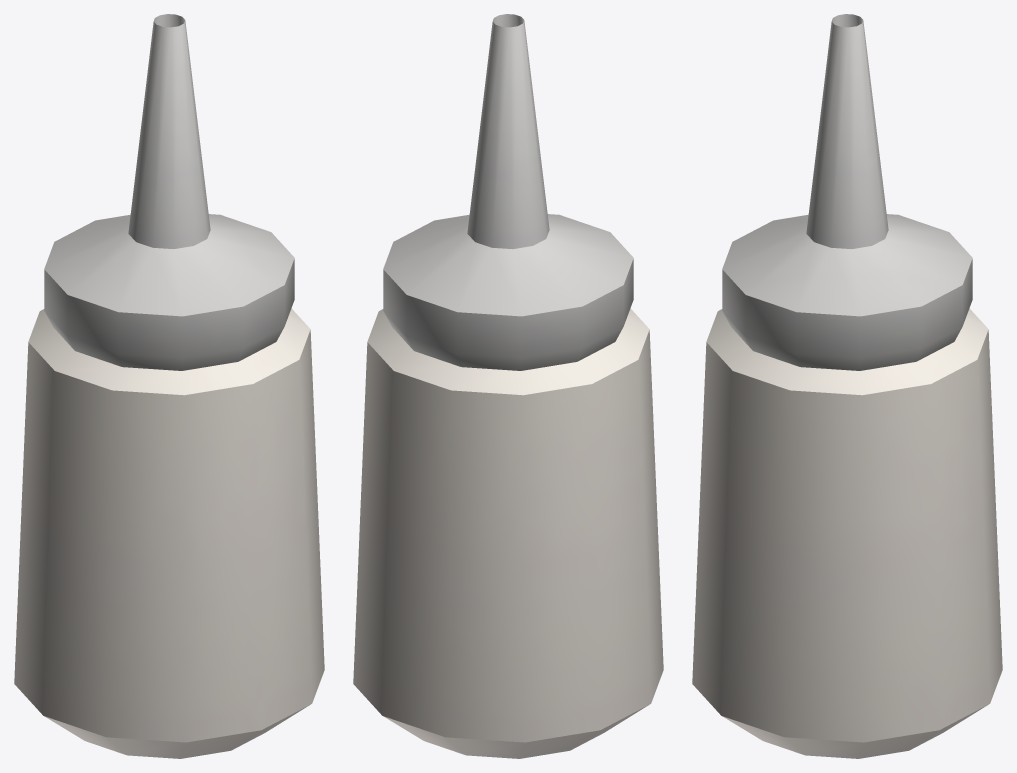
The model's file is GarlicSauce.fbx.
The picture shows the model from 3 angles, left to right: view 1: azimuth 30°, elevation 25°; view 2: azimuth 150°, elevation 25°; view 3: azimuth 270°, elevation 25°; orthographic projection.
Visible parts, largest first — view 1: GarlicSauce; view 2: GarlicSauce; view 3: GarlicSauce.
Boxes of the visible parts, <box> form: GarlicSauce: <box>14,14,324,758</box>; GarlicSauce: <box>353,14,663,758</box>; GarlicSauce: <box>692,14,1002,758</box>.
Size of the model in its own units: 10.63 by 26.23 by 10.63.
